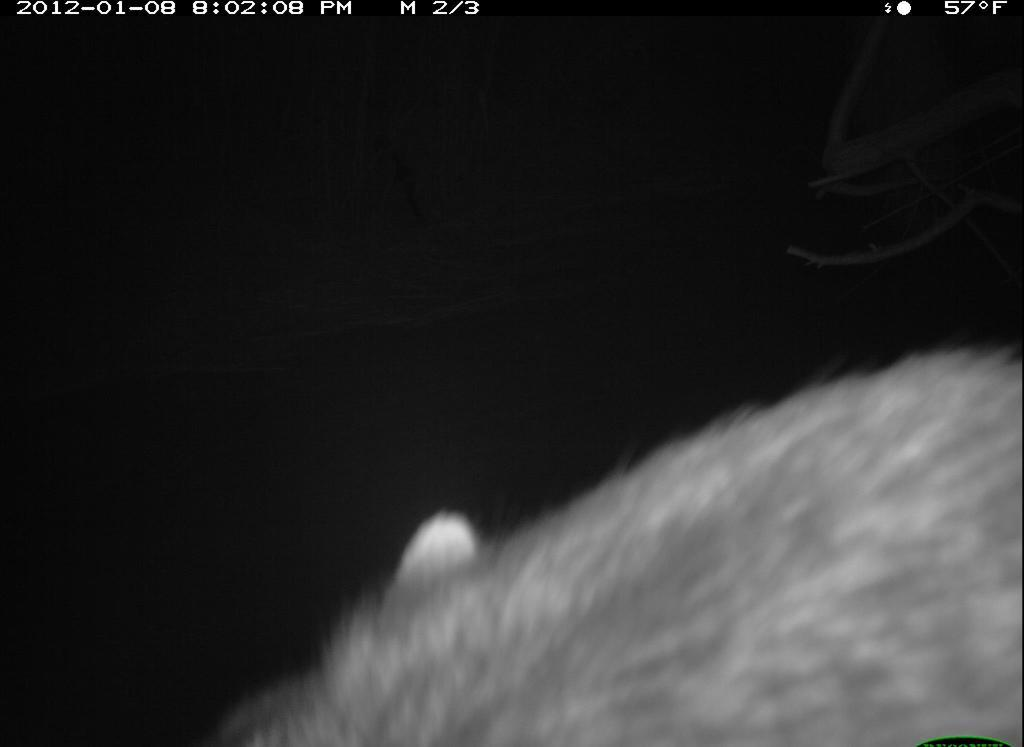raccoon: (194, 313, 1022, 743)
